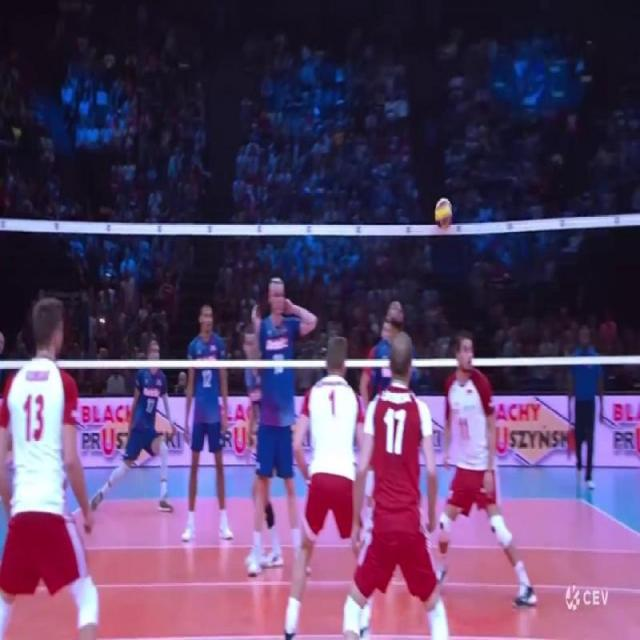volleyball: (434, 196, 452, 228)
